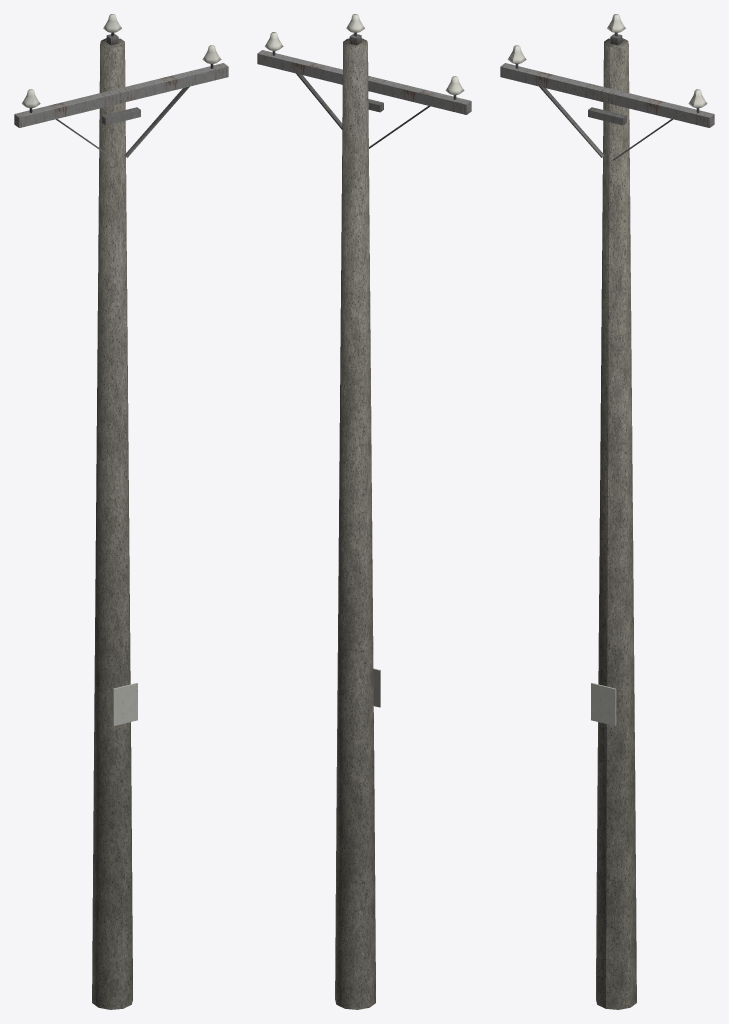
File: pole.glb
3 renders of one model, left to right at view 1: azimuth 30°, elevation 25°; view 2: azimuth 150°, elevation 25°; view 3: azimuth 330°, elevation 25°, orthographic.
Visible parts, largest first — view 1: pole_mesh; view 2: pole_mesh; view 3: pole_mesh.
Boxes of the visible parts, <box> form: pole_mesh: <box>14,14,228,1009</box>; pole_mesh: <box>257,14,471,1009</box>; pole_mesh: <box>500,14,714,1009</box>.
Size of the model in its own units: 1.9 by 8.54 by 0.3795.
4 materials, 3 textured.
